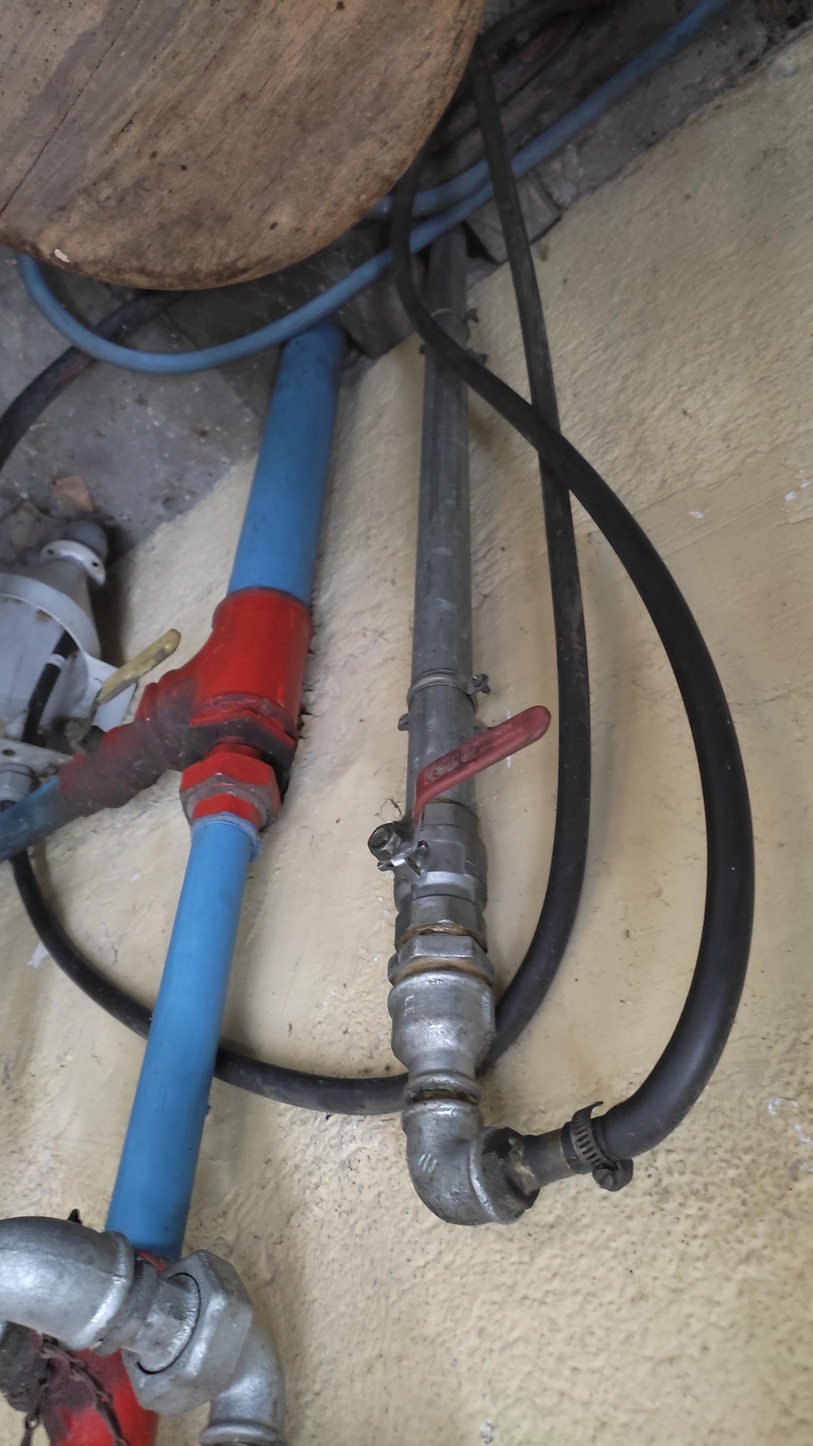closed valve: (365, 698, 554, 969)
opened valve: (15, 619, 248, 842)
